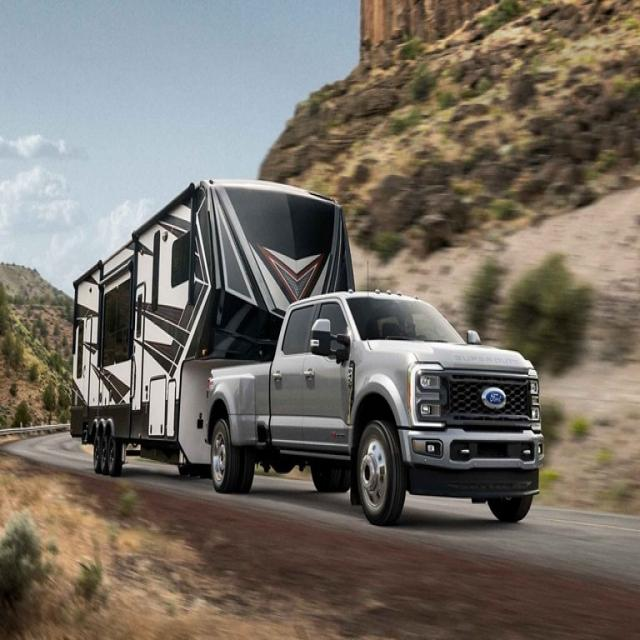truck: (59, 168, 565, 586)
